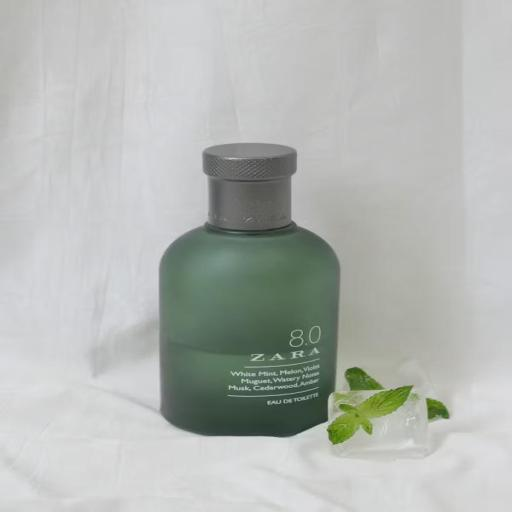bottle: (148, 130, 364, 445)
